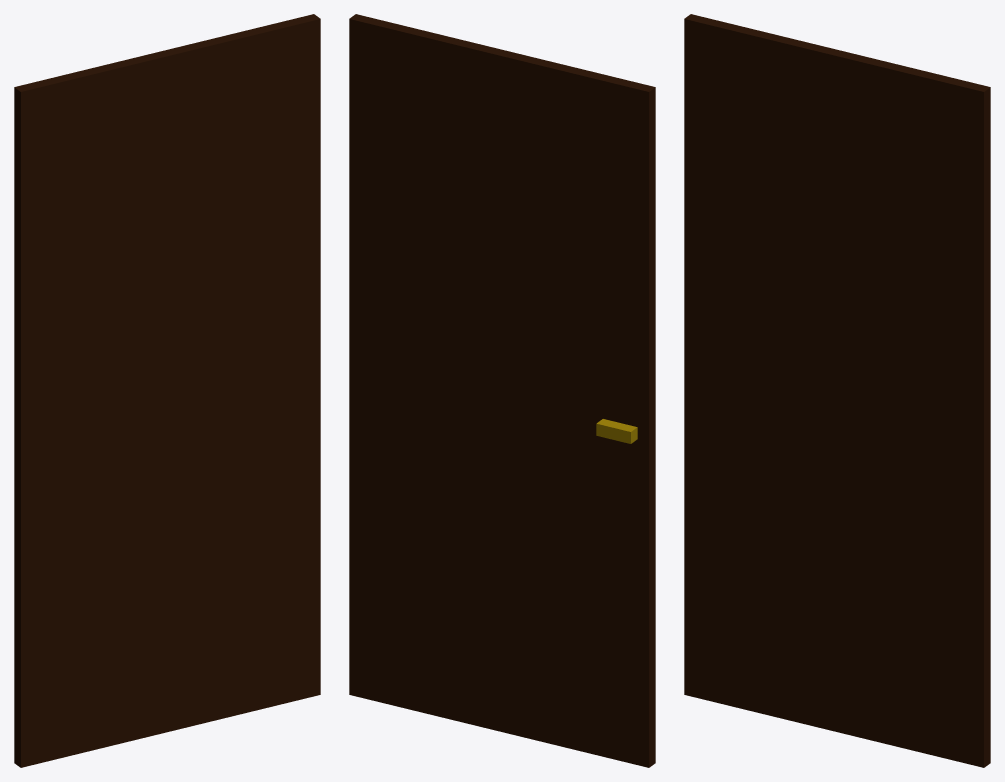
File: Level1-4-19.obj
The picture shows the model from 3 angles, left to right: view 1: azimuth 30°, elevation 25°; view 2: azimuth 150°, elevation 25°; view 3: azimuth 330°, elevation 25°; orthographic projection.
Parts seen in each view (by area): view 1: Level1-4-19; view 2: Level1-4-19; view 3: Level1-4-19.
Boxes of the visible parts, x1,y1,x2,y2 form: Level1-4-19: (14, 14, 320, 767); Level1-4-19: (349, 14, 655, 767); Level1-4-19: (684, 14, 990, 767).
Bounding box in the file's own units: 26 × 56 × 2.
1 material, 1 textured.
